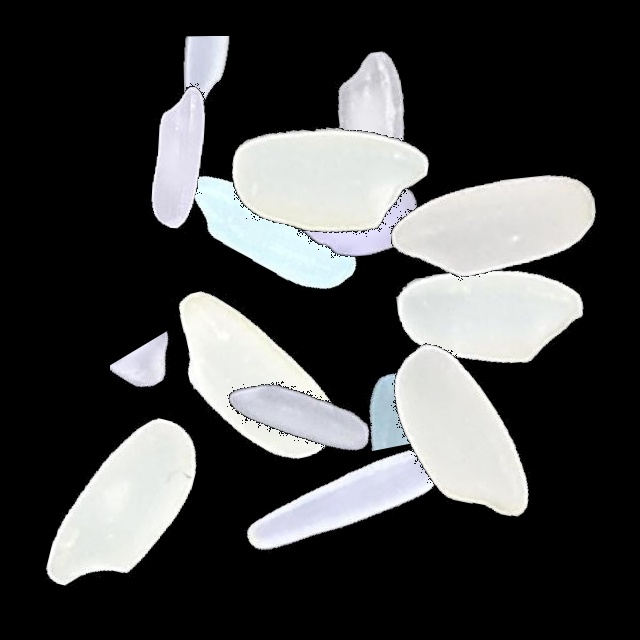Broken: (289, 31, 539, 199), (10, 72, 260, 234), (110, 269, 213, 519), (344, 271, 443, 521), (86, 36, 336, 130)
Full: (365, 193, 615, 443), (143, 108, 393, 358), (131, 249, 381, 499), (232, 96, 482, 346), (370, 103, 620, 353), (227, 372, 477, 622), (1, 379, 251, 629), (173, 293, 423, 543), (340, 303, 590, 553), (201, 55, 451, 305)
